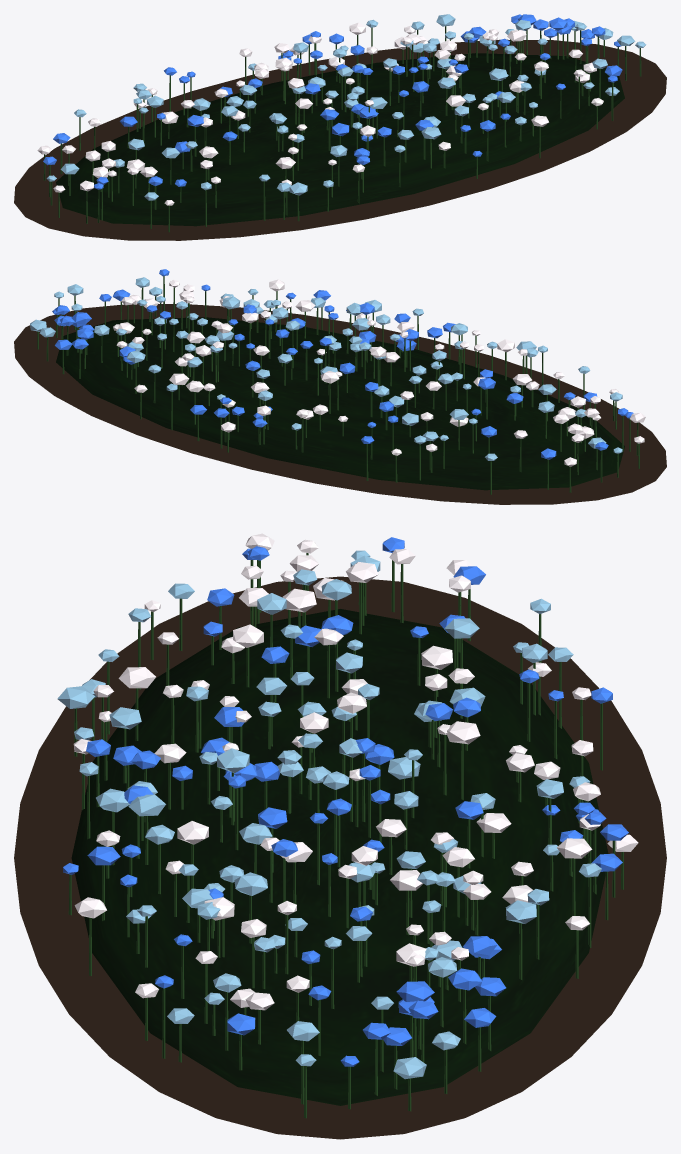
The model's file is flower-bed-4.glb.
The picture shows the model from 3 angles, top to bottom: view 1: azimuth 30°, elevation 25°; view 2: azimuth 150°, elevation 25°; view 3: azimuth 270°, elevation 25°; orthographic projection. The views are drawn at different scales.
Parts seen in each view (by area): view 1: flower-bed-4_MeshStandardMaterial (×4); view 2: flower-bed-4_MeshStandardMaterial (×4); view 3: flower-bed-4_MeshStandardMaterial (×4).
Part boxes in pixels (<box>): flower-bed-4_MeshStandardMaterial (×4): <box>14,14,666,240</box>; flower-bed-4_MeshStandardMaterial (×4): <box>14,269,666,504</box>; flower-bed-4_MeshStandardMaterial (×4): <box>14,533,666,1139</box>.
Size of the model in its own units: 5.1 by 0.5704 by 2.5.
4 materials, 1 textured.
